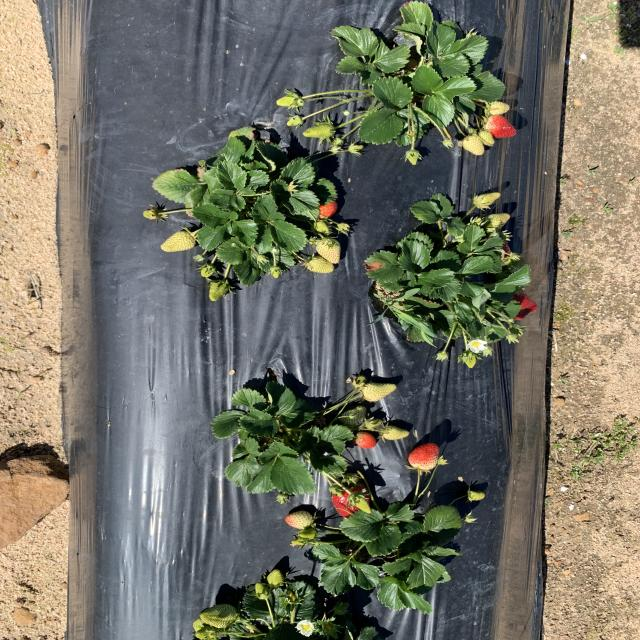unripe: (336, 478, 372, 518), (499, 286, 539, 320), (482, 234, 516, 263), (482, 115, 519, 139), (409, 443, 440, 469), (307, 196, 338, 217), (353, 431, 378, 448)
